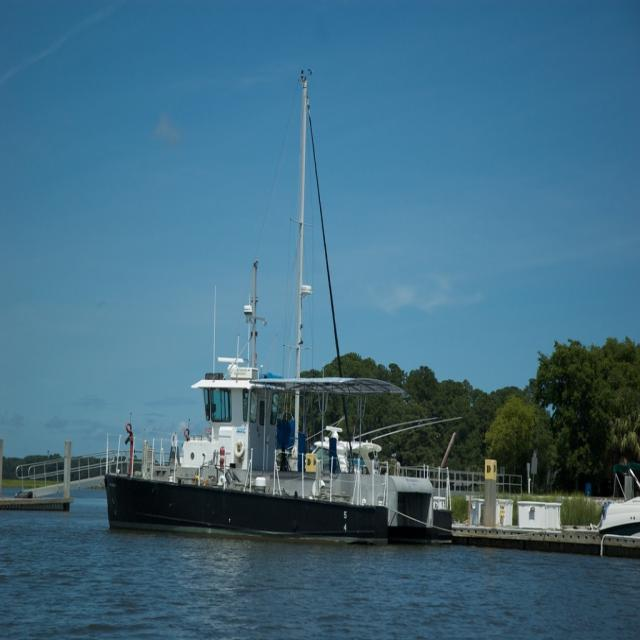Boat: (107, 112, 485, 554), (308, 432, 390, 475), (598, 462, 640, 532)
